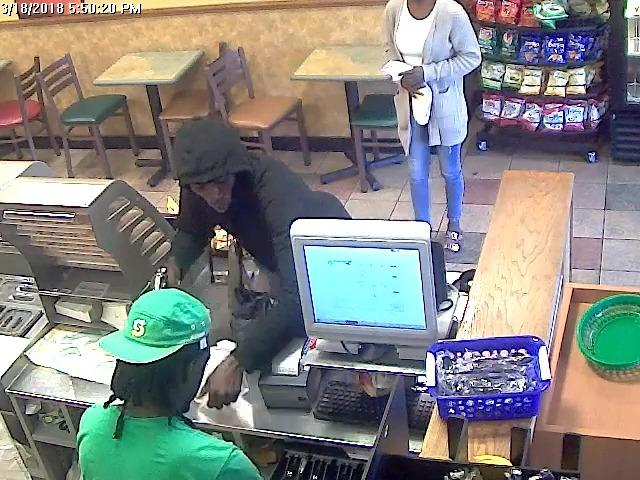weapon: (146, 262, 181, 294)
